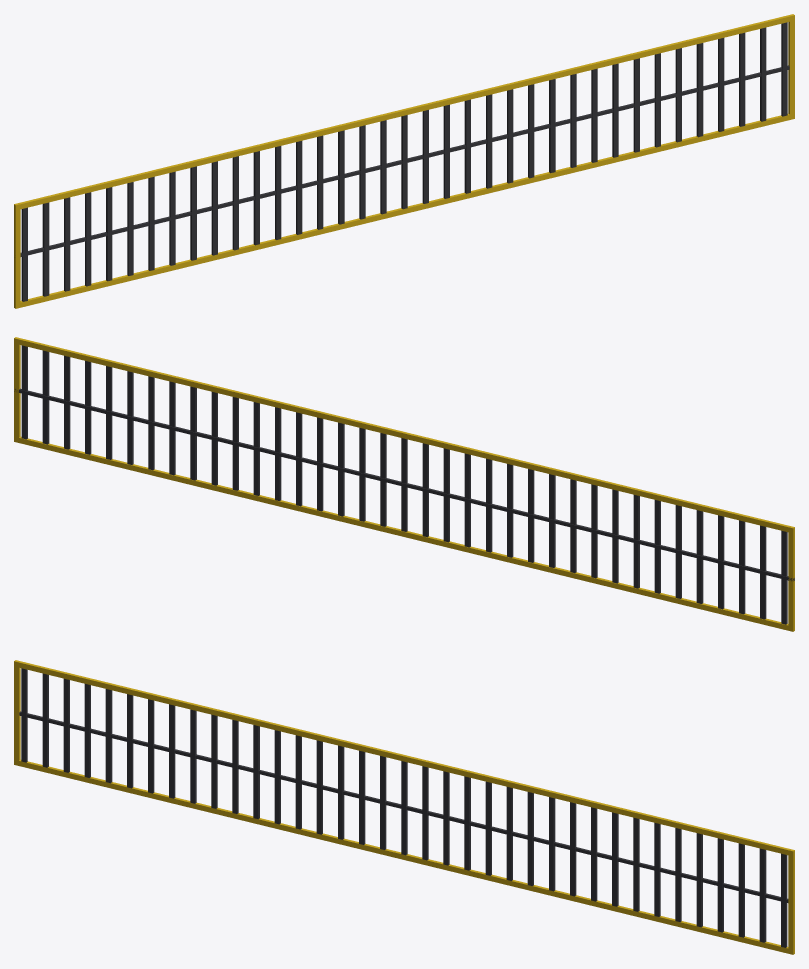
The model's file is rejilla_canal.obj.
3 renders of one model, top to bottom at view 1: azimuth 30°, elevation 25°; view 2: azimuth 150°, elevation 25°; view 3: azimuth 330°, elevation 25°, orthographic.
Visible parts, largest first — view 1: rejilla_canal_rejilla, rejilla_canal_amarillo_seguridad; view 2: rejilla_canal_rejilla, rejilla_canal_amarillo_seguridad; view 3: rejilla_canal_rejilla, rejilla_canal_amarillo_seguridad.
Part boxes in pixels (left/top/right/bottom): rejilla_canal_rejilla: left=20, top=22, right=789, bottom=301; rejilla_canal_amarillo_seguridad: left=14, top=14, right=794, bottom=308; rejilla_canal_rejilla: left=14, top=345, right=794, bottom=624; rejilla_canal_amarillo_seguridad: left=14, top=337, right=794, bottom=631; rejilla_canal_rejilla: left=19, top=668, right=788, bottom=947; rejilla_canal_amarillo_seguridad: left=14, top=660, right=794, bottom=954.
Bounding box in the file's own units: 15.75 × 2 × 0.06.
